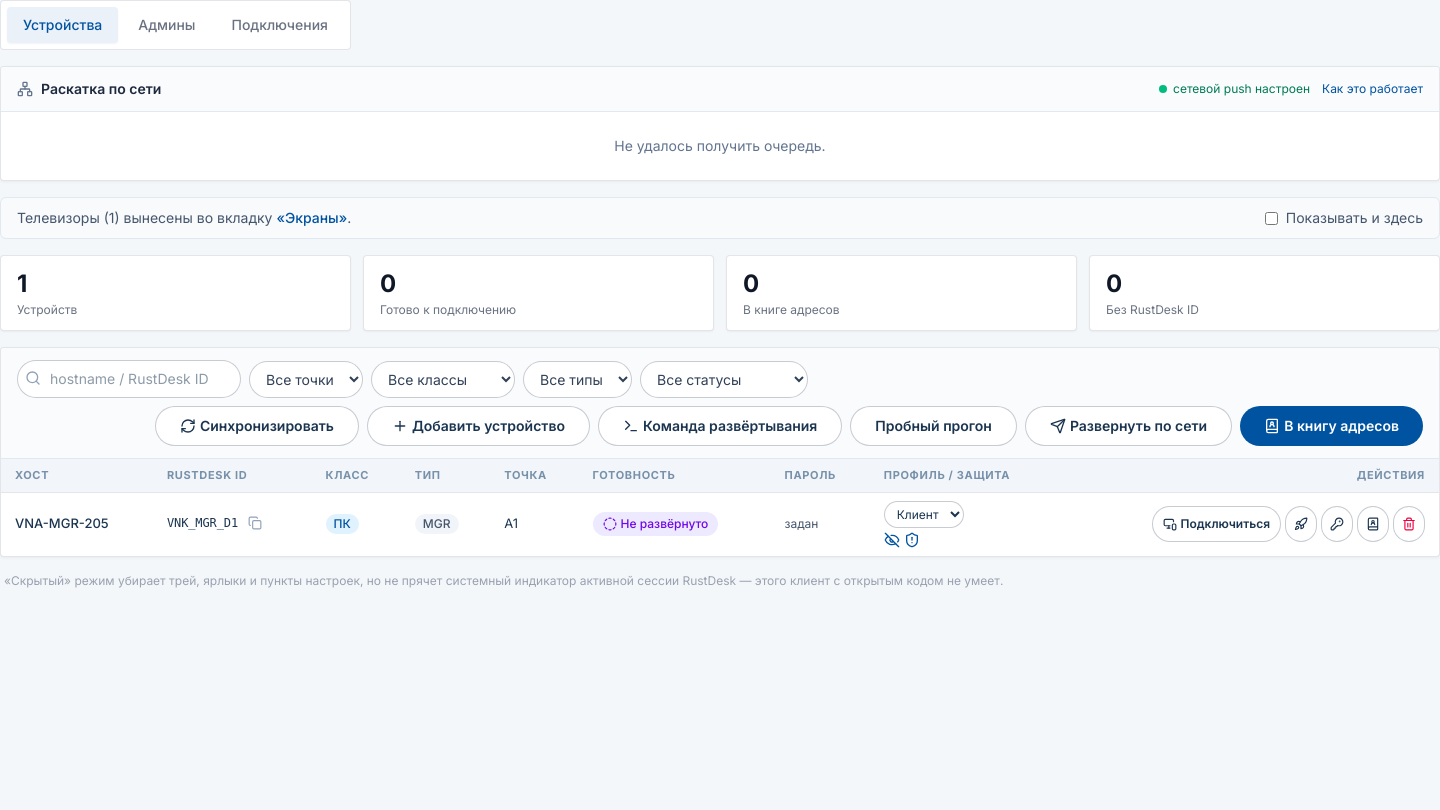
it: RemoteAccessPage › brings the TVs back into the list on request
This screenshot has width=1440, height=810.
Expected: the text "VNA-MGR-205" is shown, [1, 492, 153, 556]
Click the checkbox labelled "Показывать и здесь". click: (1271, 218)
box: [1265, 212, 1278, 224]
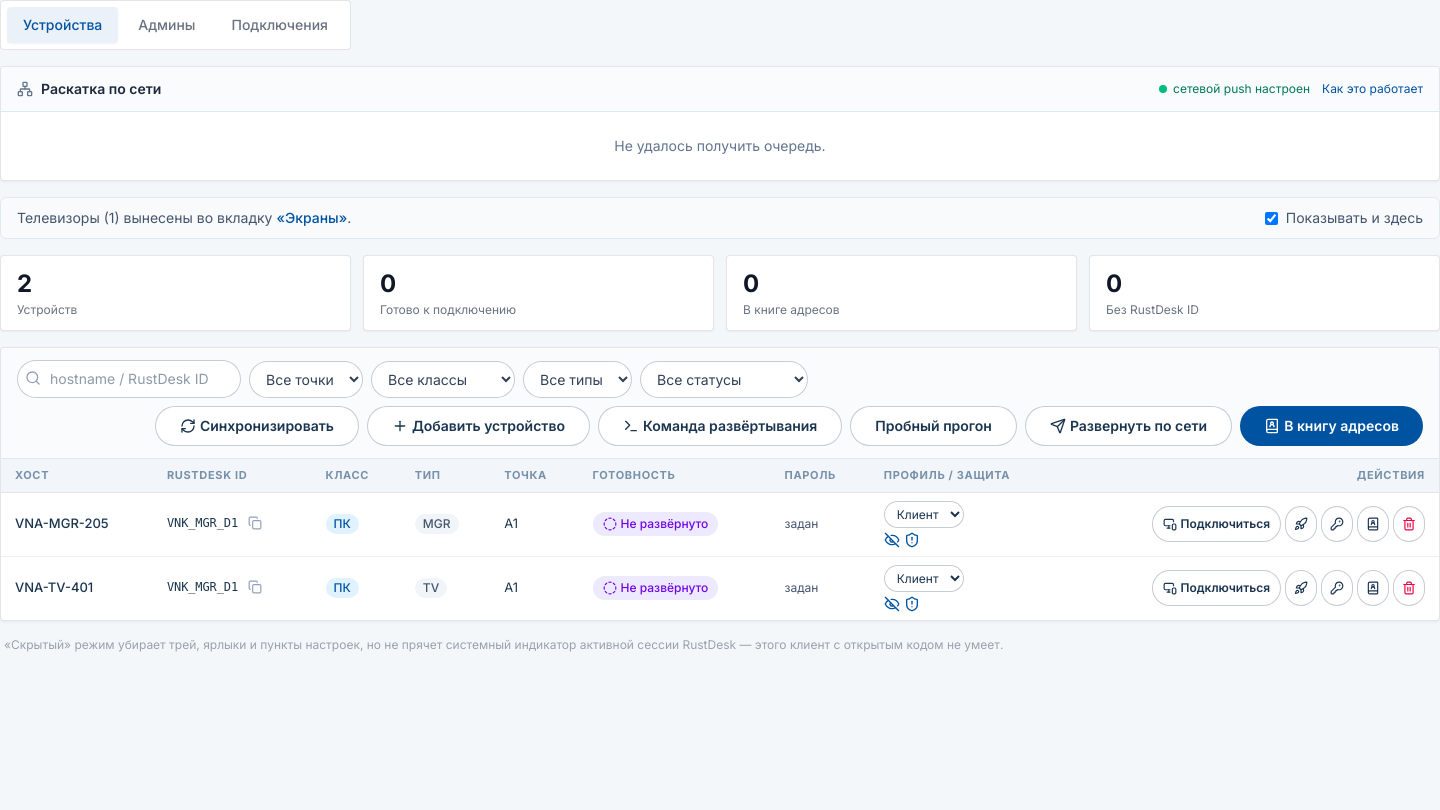
Expected: the text "VNA-TV-401" is shown, [1, 556, 153, 620]
